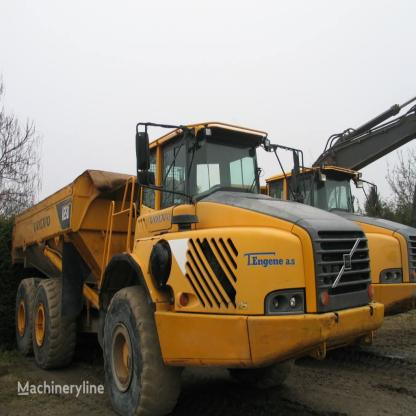dump_truck: (6, 116, 397, 407)
